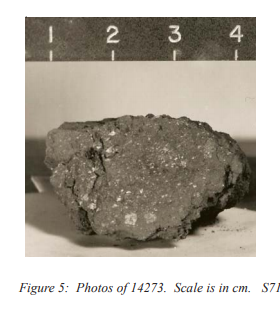Breccia: (39, 85, 250, 246)
